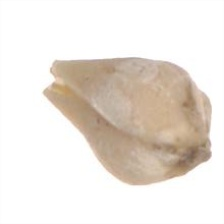L1: (42, 59, 76, 102), (183, 138, 212, 171)
L2: (41, 57, 212, 186)
